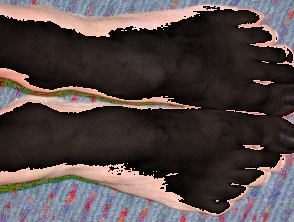vitiligo: (0, 83, 294, 222), (0, 0, 294, 115)
